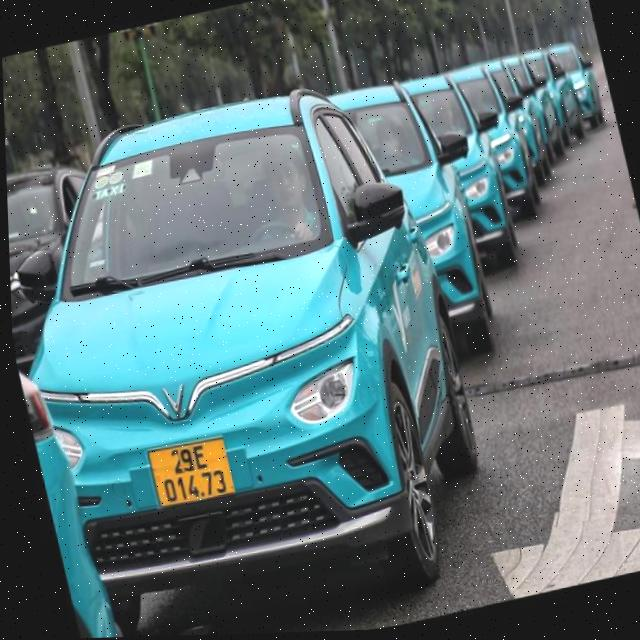car: (4, 82, 470, 640)
plate: (139, 427, 243, 512)
